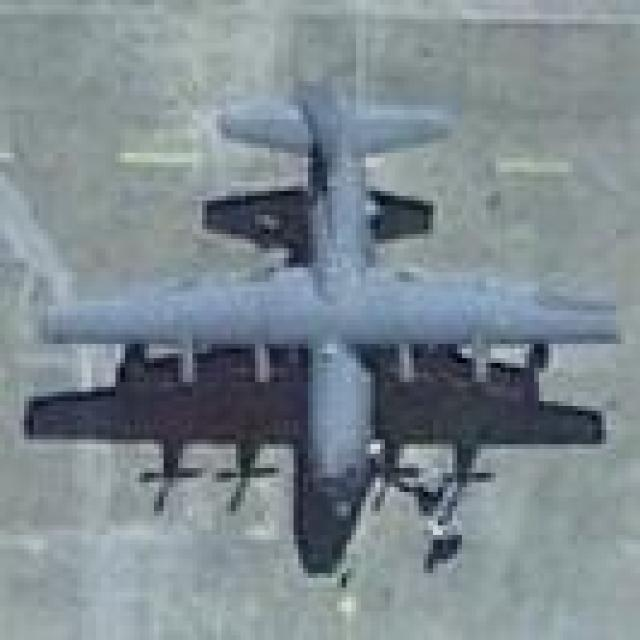C-130_TopDown: (30, 75, 623, 572)
